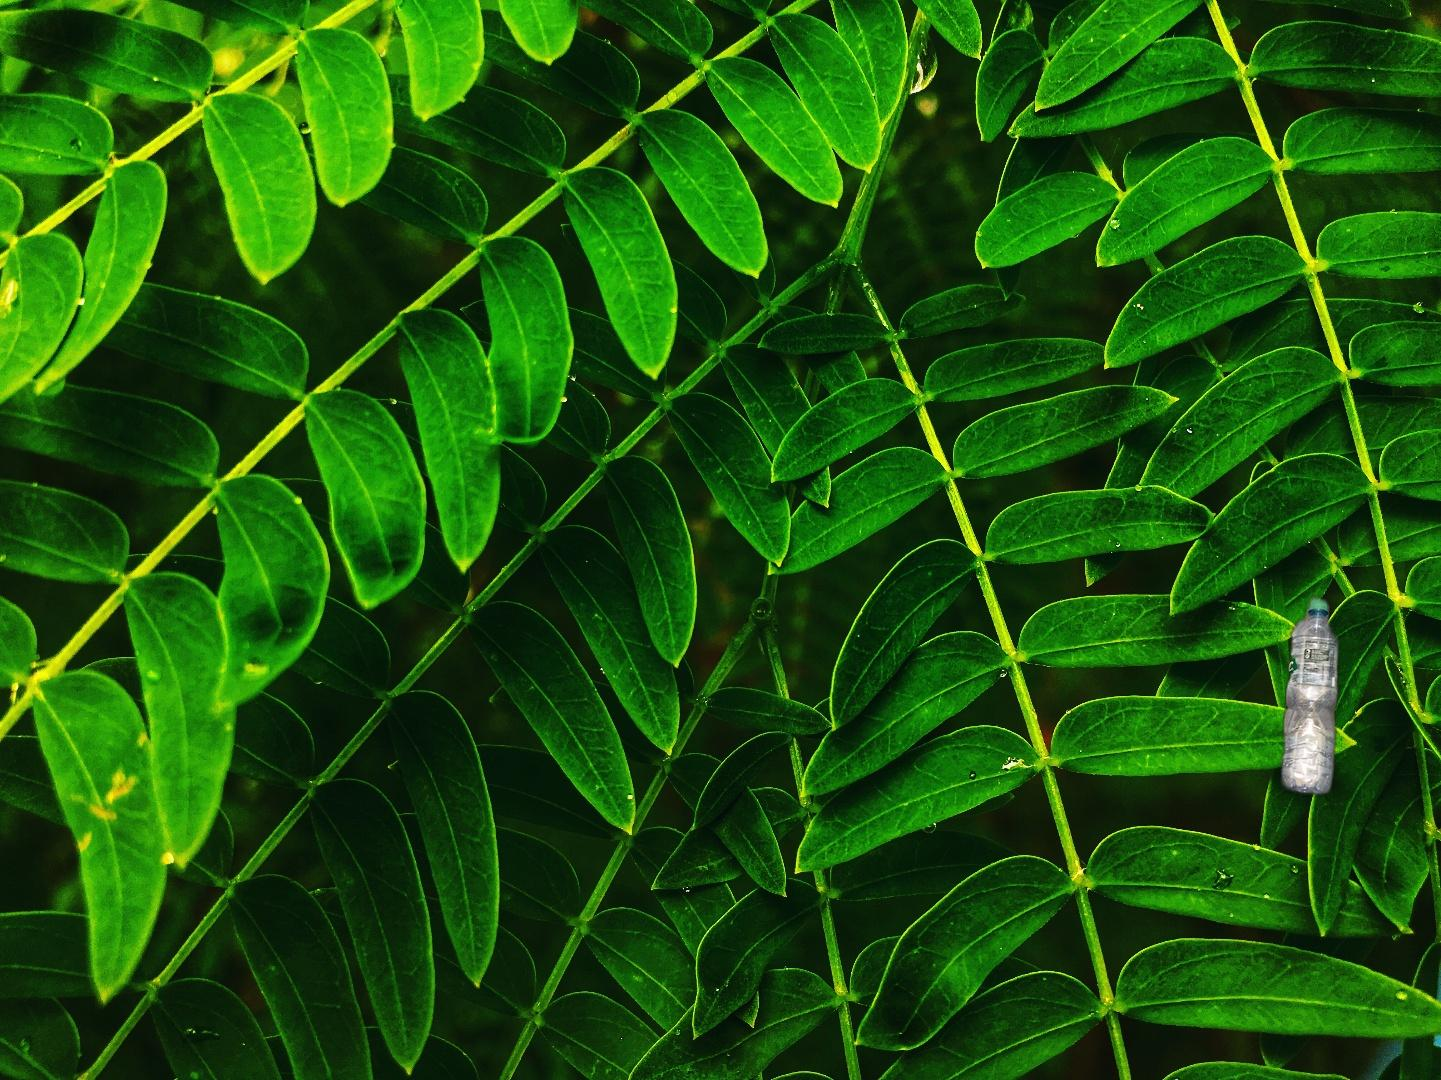plastic-bottles: (1276, 573, 1343, 802)
